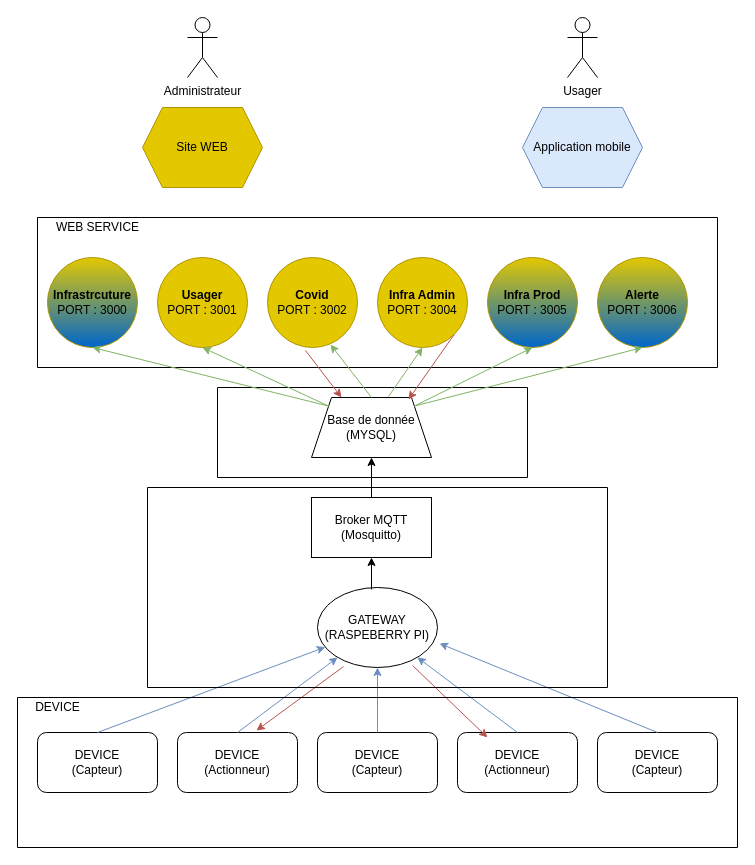
This 755x865 diagram has some shape labels left out. The centre of each missing label's shape, as x and y in pixels:
BDD: point 372,432
Traitement données: point 377,587
